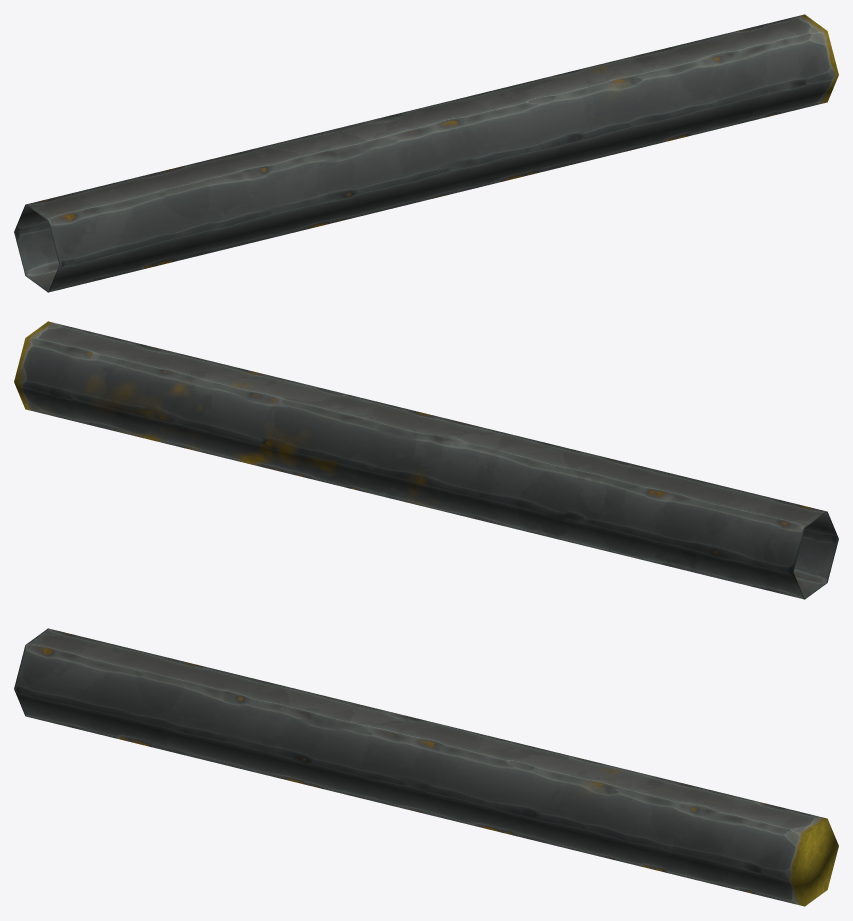
File: SM_Pillar.glb
3 renders of one model, top to bottom at view 1: azimuth 30°, elevation 25°; view 2: azimuth 150°, elevation 25°; view 3: azimuth 330°, elevation 25°, orthographic.
Parts seen in each view (by area): view 1: SM_Pillar; view 2: SM_Pillar; view 3: SM_Pillar.
Part boxes in pixels (x1,y1,x2,y2): SM_Pillar: (14, 14, 838, 292); SM_Pillar: (14, 321, 838, 599); SM_Pillar: (14, 628, 838, 906).
Size of the model in its own units: 24.53 by 2.15 by 2.48.
1 material, 1 textured.
